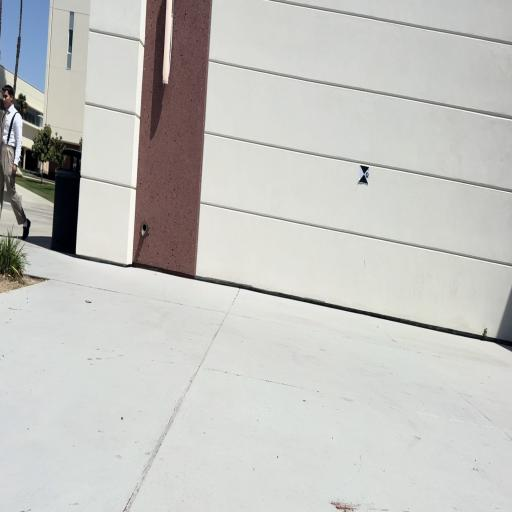target0: (359, 164, 369, 186)
